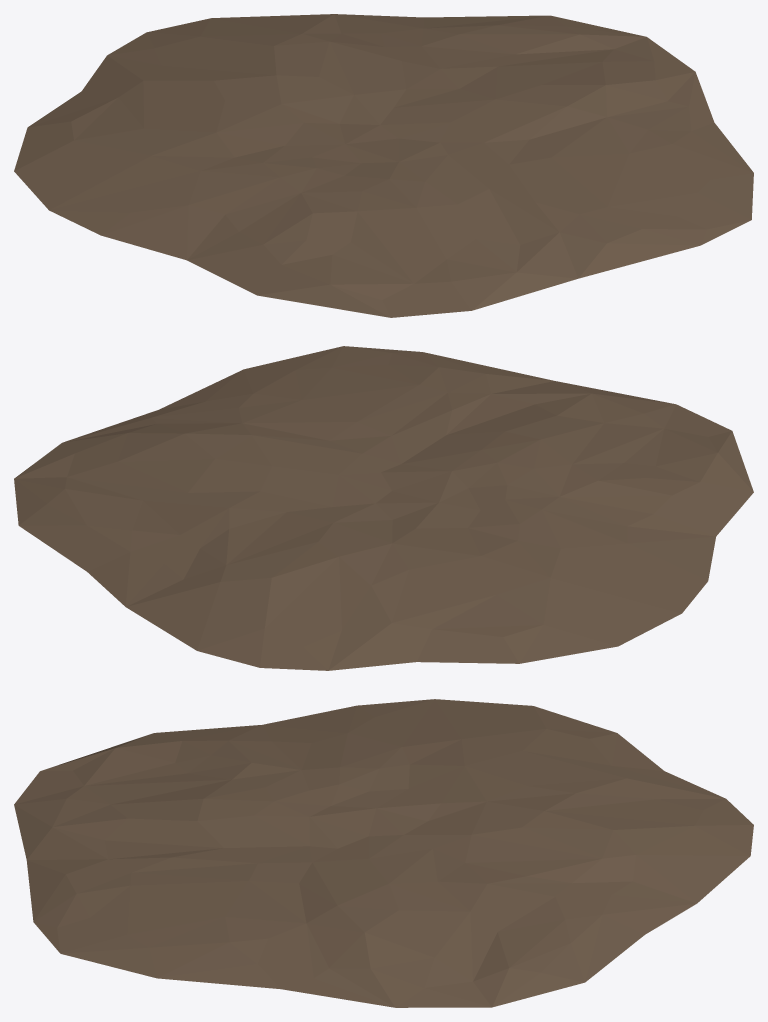
Rendered from SM_Env_Ground_Dirt_01.glb.
The picture shows the model from 3 angles, top to bottom: view 1: azimuth 30°, elevation 25°; view 2: azimuth 150°, elevation 25°; view 3: azimuth 270°, elevation 25°; orthographic projection. The views are drawn at different scales.
Parts seen in each view (by area): view 1: SM_Env_Ground_Dirt_01; view 2: SM_Env_Ground_Dirt_01; view 3: SM_Env_Ground_Dirt_01.
Part boxes in pixels (x1,y1,x2,y2): SM_Env_Ground_Dirt_01: (14,14,753,317); SM_Env_Ground_Dirt_01: (14,346,753,670); SM_Env_Ground_Dirt_01: (14,699,753,1007).
Size of the model in its own units: 938 by 38.04 by 950.
1 material, 1 textured.
